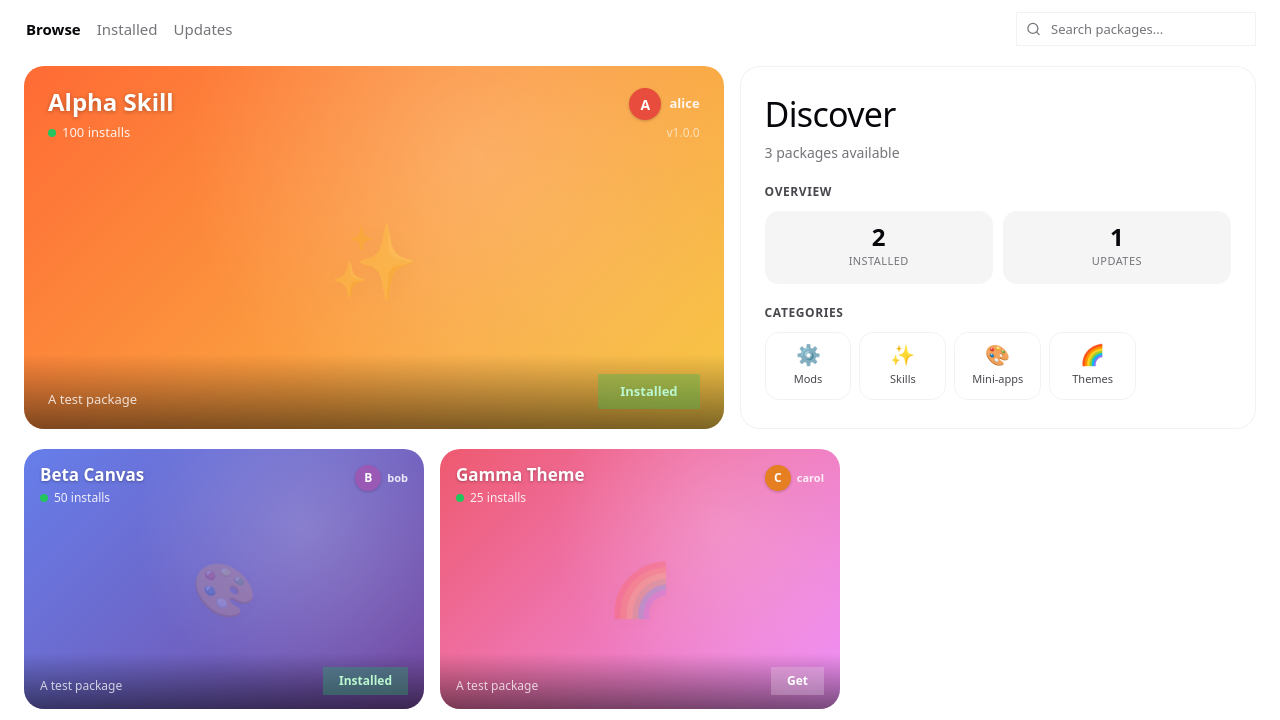
it: InstalledList › renders installed items with package info
Click the 2nd button with class "store-header-tab" at coordinates (127, 29), box left=95, top=14, right=160, bottom=44
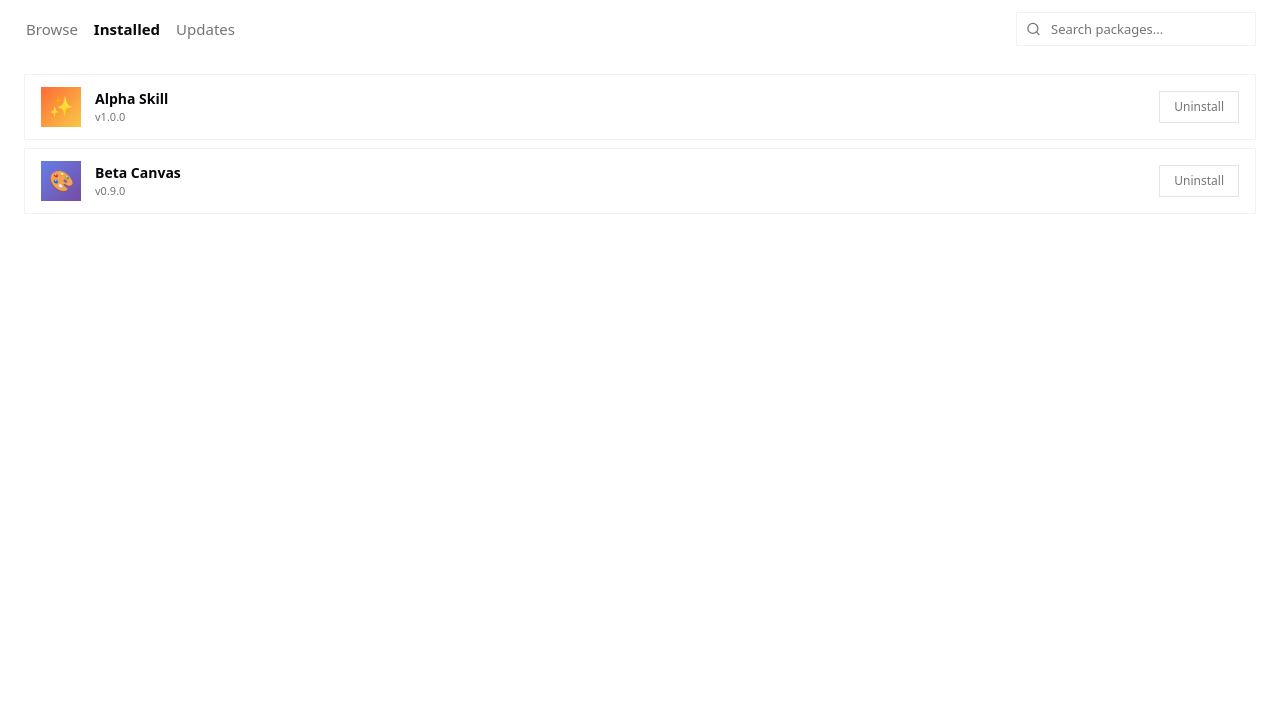
Now the number of elements with class "store-installed-item" is 2, box left=24, top=74, right=1256, bottom=140; left=24, top=148, right=1256, bottom=214
